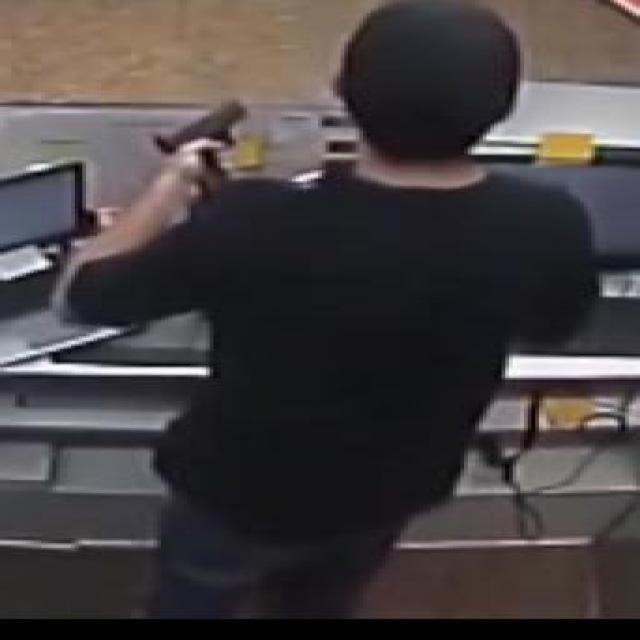weapon: (152, 97, 250, 200)
